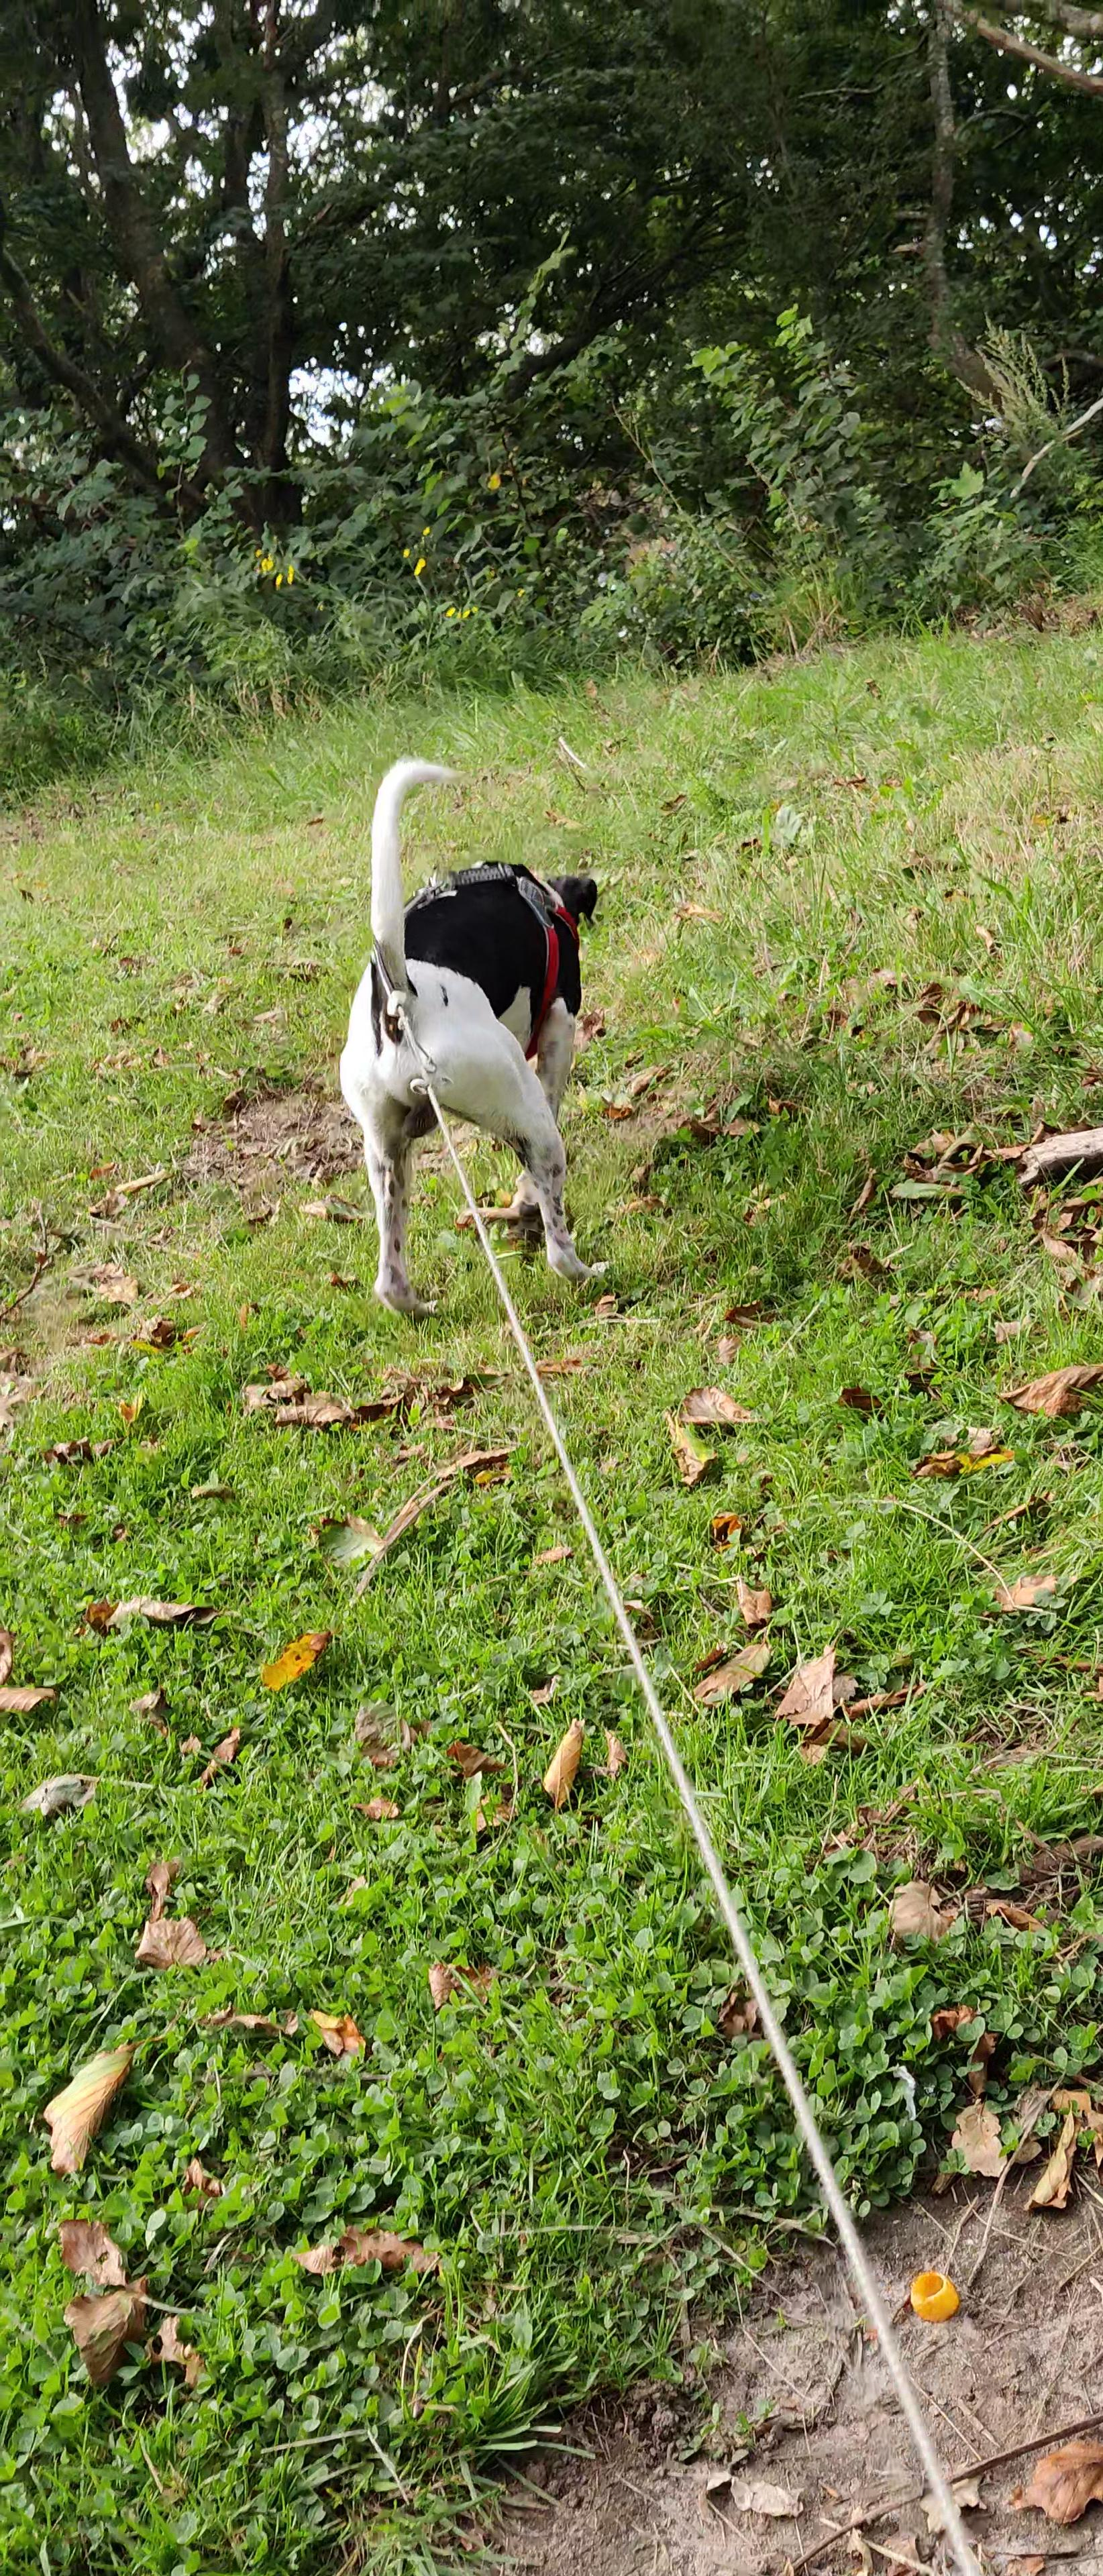Dog: (309, 739, 646, 1332)
